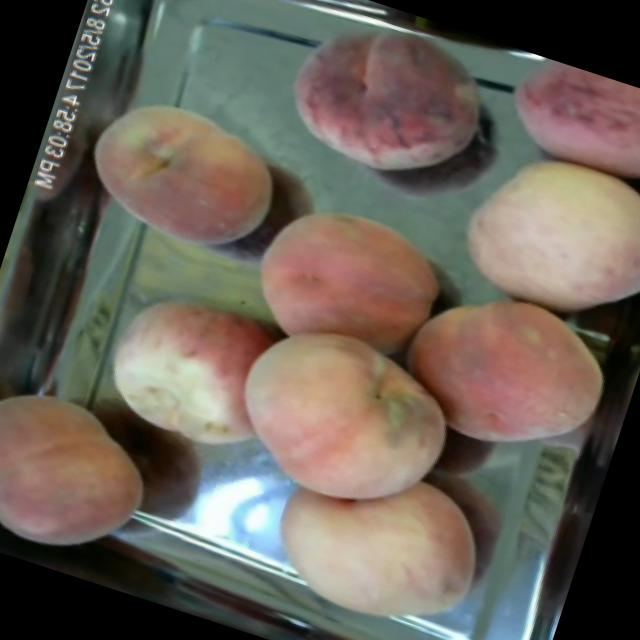Fruit: (210, 297, 480, 536), (245, 429, 512, 640), (375, 266, 631, 484), (262, 0, 524, 213), (232, 177, 474, 387), (63, 72, 302, 274), (431, 129, 640, 349), (85, 266, 303, 474), (0, 359, 173, 577), (476, 45, 640, 217)
